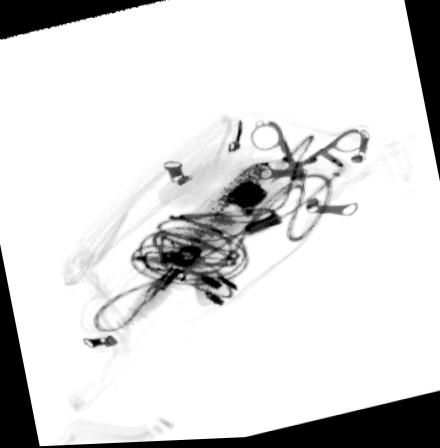Scissors: (249, 123, 368, 189)
